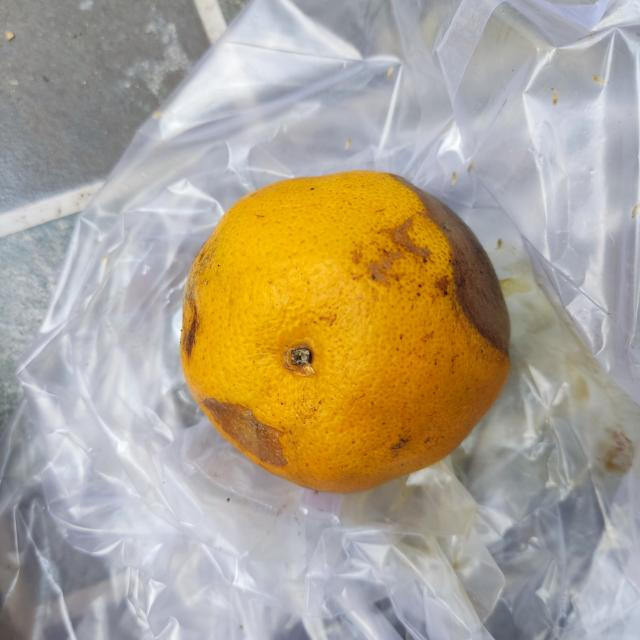orange: (178, 168, 514, 494)
